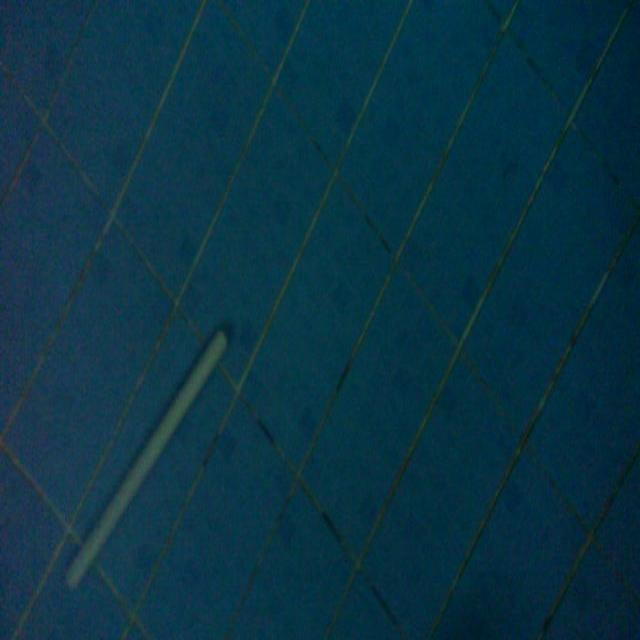Cube: (63, 320, 230, 592)
